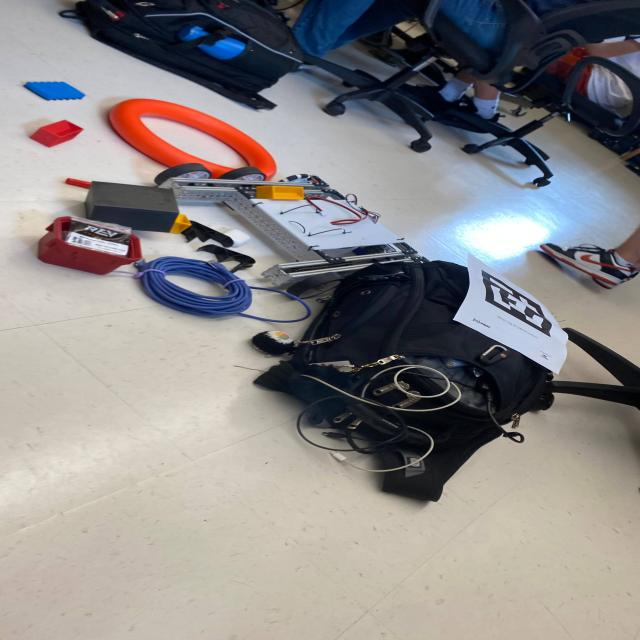red-specimen: (37, 123, 82, 138)
yellow-specimen: (256, 185, 304, 200), (169, 214, 191, 234)
